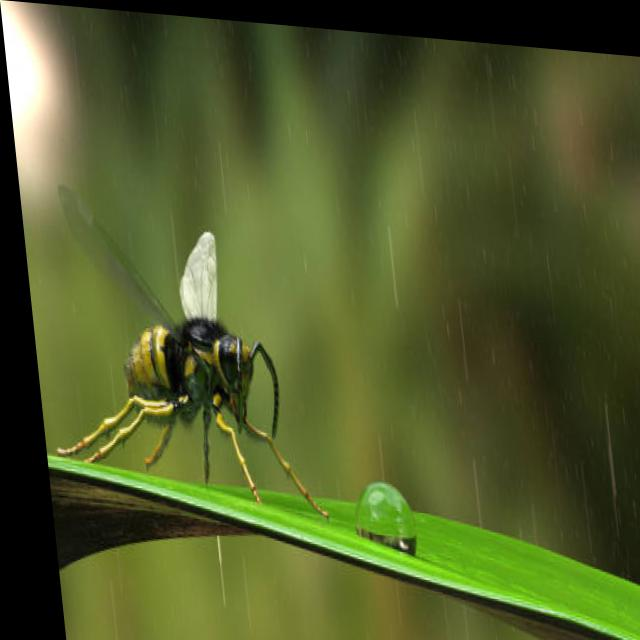Vespa Crabro: (24, 152, 324, 562)
